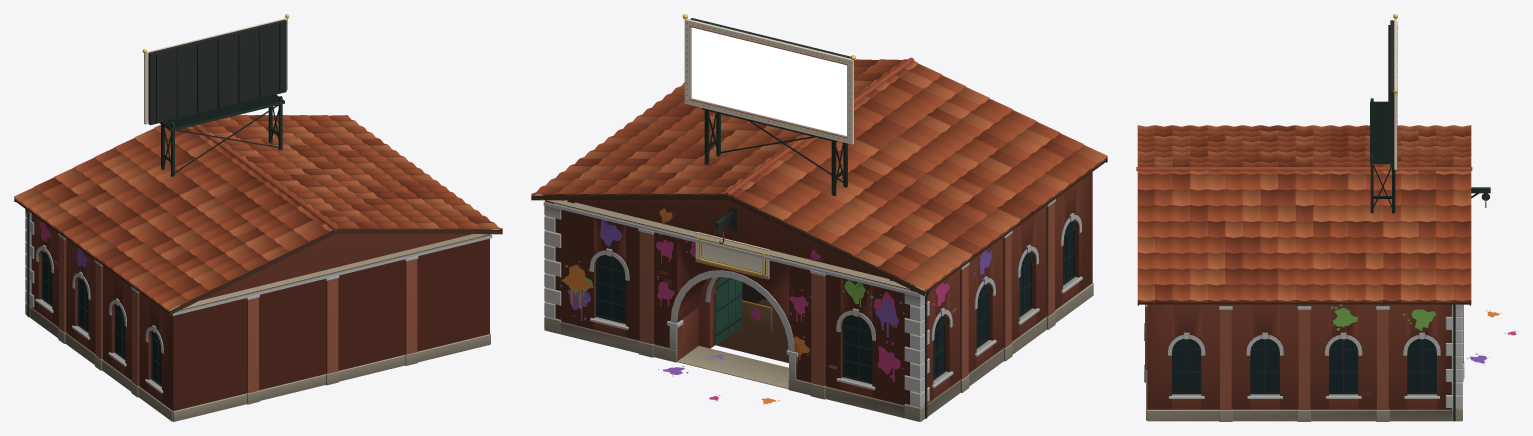
The model's file is pav_paintball.glb.
The picture shows the model from 3 angles, left to right: view 1: azimuth 30°, elevation 25°; view 2: azimuth 150°, elevation 25°; view 3: azimuth 270°, elevation 25°; orthographic projection. The views are drawn at different scales.
Visible parts, largest first — view 1: static_paintball; view 2: static_paintball, live_screen; view 3: static_paintball.
Part boxes in pixels (<box>): static_paintball: <box>14,14,502,421</box>; static_paintball: <box>531,14,1107,421</box>; live_screen: <box>691,27,846,135</box>; static_paintball: <box>1136,14,1518,421</box>.
Bounding box in the file's own units: 21.07 × 16.11 × 19.47.
